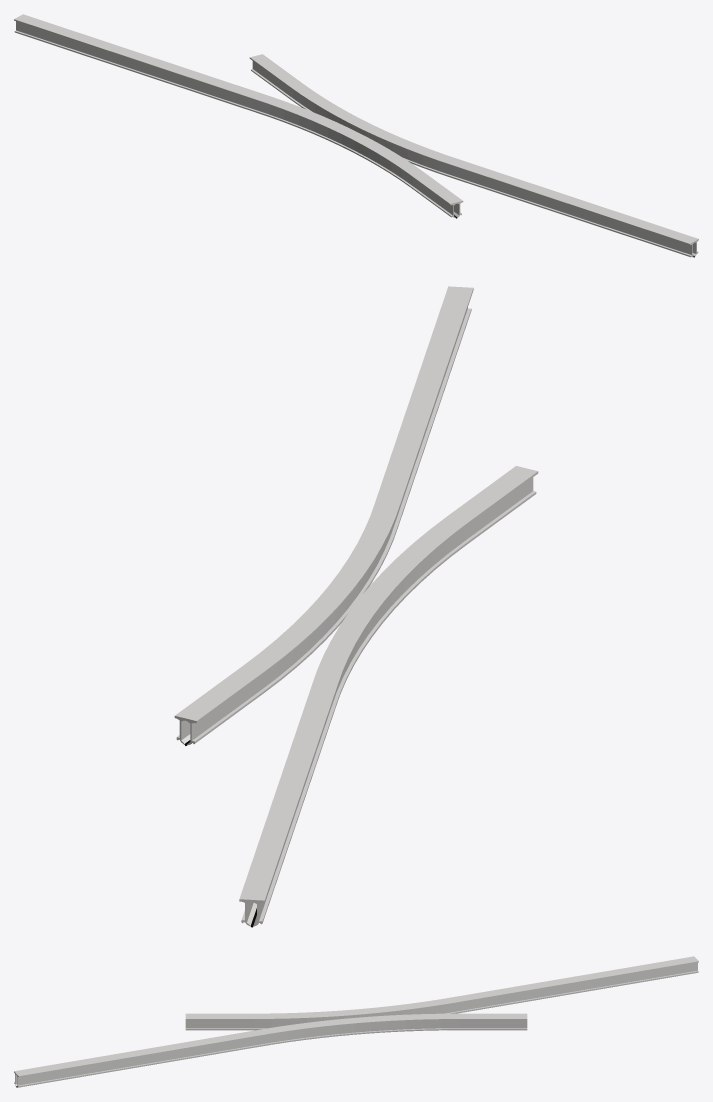
Rendered from catenary_rigid_0d_225d_line.obj.
3 renders of one model, top to bottom at view 1: azimuth 30°, elevation 25°; view 2: azimuth 150°, elevation 25°; view 3: azimuth 270°, elevation 25°, orthographic. The views are drawn at different scales.
Visible parts, largest first — view 1: 1.003, 1.001; view 2: 1.003, 1.001; view 3: 1.001, 1.003.
Boxes of the visible parts, box(x1,y1,x2,y2) form: 1.003: box(14, 14, 463, 218); 1.001: box(249, 54, 698, 257); 1.003: box(239, 466, 538, 927); 1.001: box(174, 286, 473, 745); 1.001: box(14, 1013, 527, 1087); 1.003: box(185, 956, 698, 1030).
Bounding box in the file's own units: 4.17 × 0.225 × 10.07.
6 materials, 6 textured.
